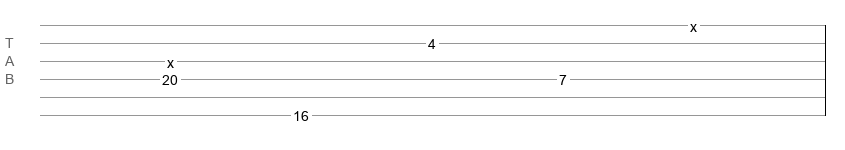16: (293, 108, 309, 118)
20: (162, 72, 178, 82)
4: (428, 36, 436, 46)
7: (559, 72, 567, 82)
x: (167, 55, 174, 63), (690, 19, 697, 27)
